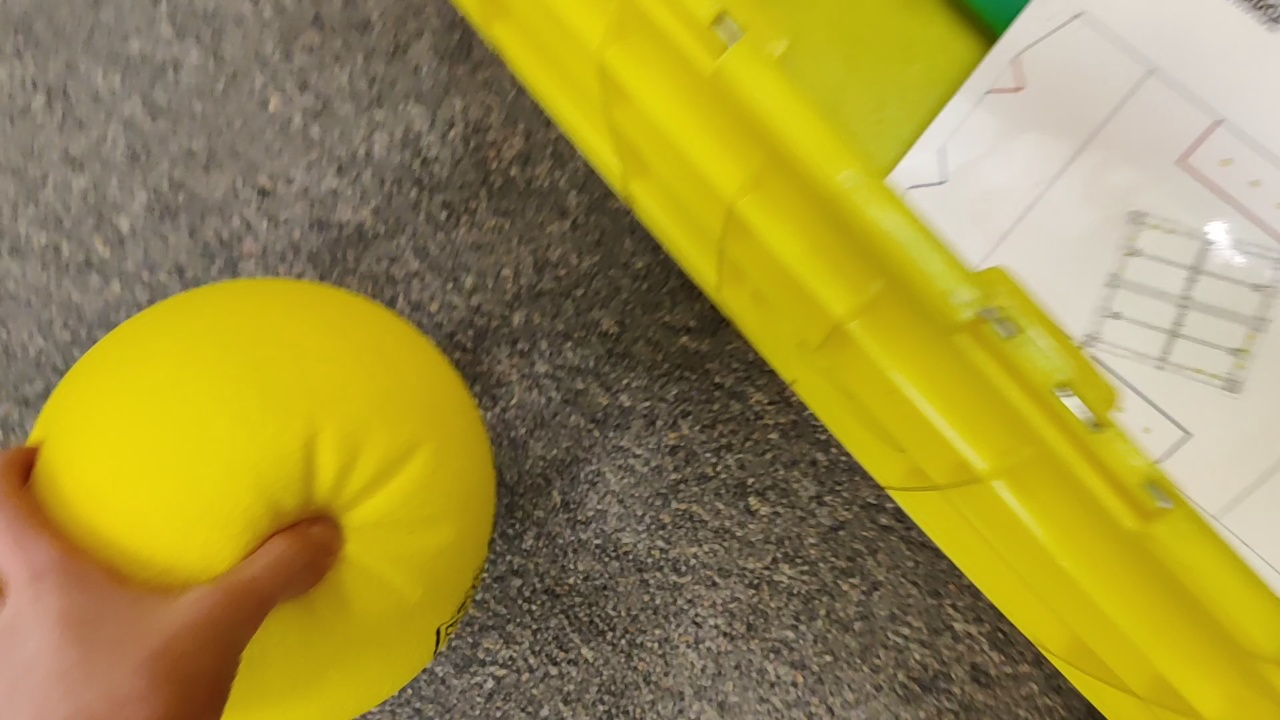Ball: (19, 279, 496, 720)
